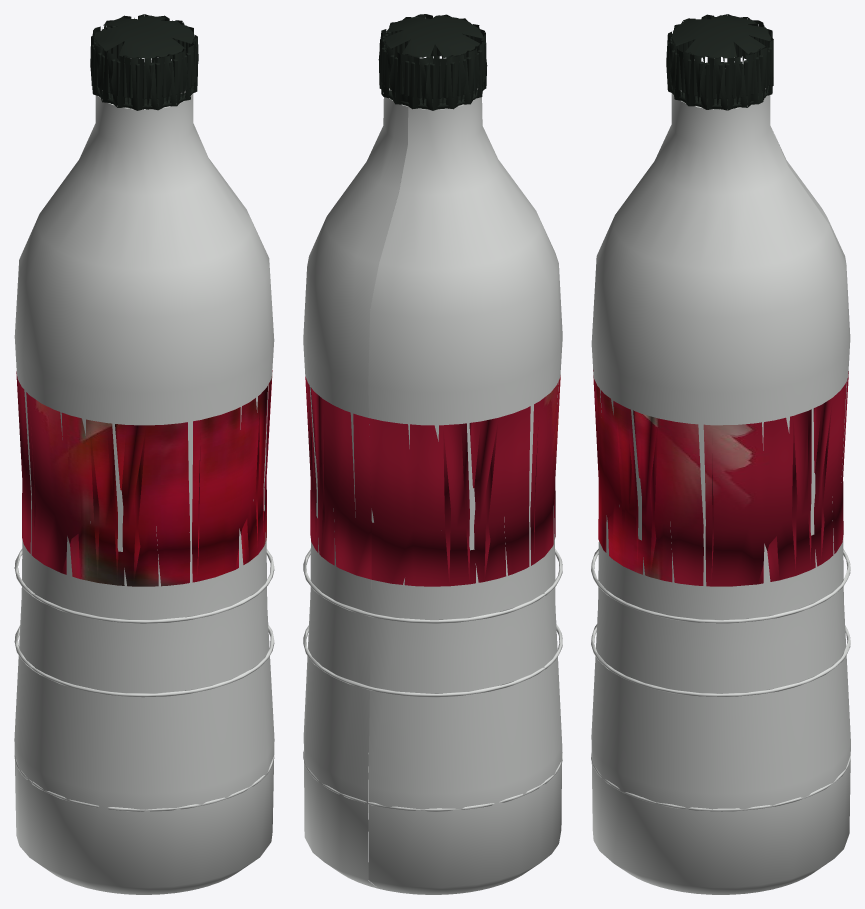
3 views of the same model, side by side, from view 1: azimuth 30°, elevation 25°; view 2: azimuth 150°, elevation 25°; view 3: azimuth 270°, elevation 25° (orthographic).
Visible parts, largest first — view 1: thin shell with corrected shoulder, profile-conforming printed label, removable closure, PET circumferential molding.002, PET circumferential molding.001, PET circumferential molding; view 2: thin shell with corrected shoulder, profile-conforming printed label, removable closure, PET circumferential molding.002, PET circumferential molding.001, PET circumferential molding; view 3: thin shell with corrected shoulder, profile-conforming printed label, removable closure, PET circumferential molding.002, PET circumferential molding.001, PET circumferential molding.
Part boxes in pixels (bbox=[...]): thin shell with corrected shoulder: bbox=[14, 90, 274, 894]; profile-conforming printed label: bbox=[16, 370, 272, 586]; removable closure: bbox=[90, 14, 198, 110]; PET circumferential molding.002: bbox=[14, 549, 274, 623]; PET circumferential molding.001: bbox=[14, 625, 274, 697]; PET circumferential molding: bbox=[14, 755, 274, 811]; thin shell with corrected shoulder: bbox=[303, 88, 562, 894]; profile-conforming printed label: bbox=[305, 375, 560, 586]; removable closure: bbox=[378, 14, 487, 110]; PET circumferential molding.002: bbox=[303, 549, 562, 623]; PET circumferential molding.001: bbox=[303, 624, 562, 697]; PET circumferential molding: bbox=[303, 751, 562, 811]; thin shell with corrected shoulder: bbox=[591, 88, 850, 894]; profile-conforming printed label: bbox=[593, 370, 848, 586]; removable closure: bbox=[666, 14, 773, 110]; PET circumferential molding.002: bbox=[591, 549, 850, 623]; PET circumferential molding.001: bbox=[591, 624, 850, 696]; PET circumferential molding: bbox=[591, 752, 850, 811].
Bounding box in the file's own units: 0.0624 × 0.2169 × 0.0624.
Materials: 4 (1 with a texture image).
